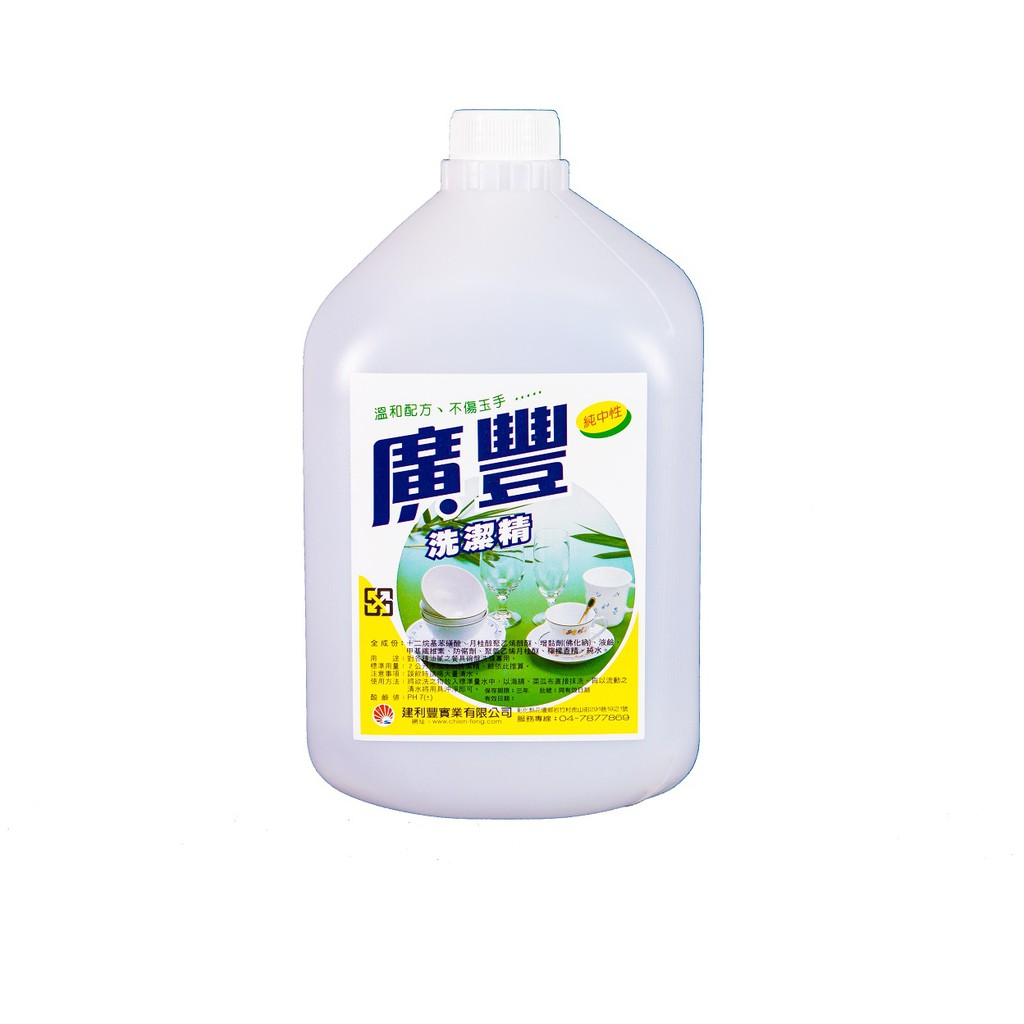cleaner: (275, 99, 730, 818)
